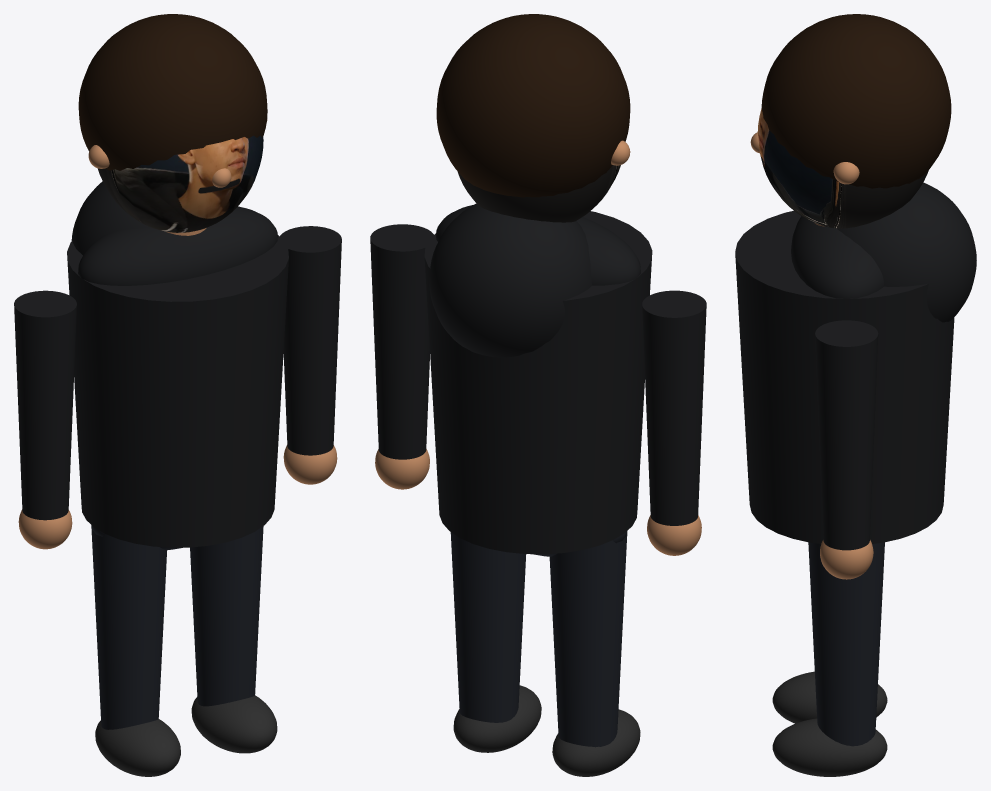
The model's file is chase.glb.
The picture shows the model from 3 angles, left to right: view 1: azimuth 30°, elevation 25°; view 2: azimuth 150°, elevation 25°; view 3: azimuth 270°, elevation 25°; orthographic projection. The views are drawn at different scales.
Visible parts, largest first — view 1: torso, hair-afro, left-arm-mesh, left-leg-mesh, right-arm-mesh, right-leg-mesh, skull, chest-top, right-shoe, left-shoe, hood, right-hand (+1 smaller); view 2: torso, hair-afro, hood, left-leg-mesh, left-arm-mesh, right-arm-mesh, right-leg-mesh, skull, right-shoe, left-shoe, chest-top, right-hand (+1 smaller); view 3: torso, hair-afro, right-arm-mesh, right-leg-mesh, hood, skull, chest-top, right-shoe, left-shoe, right-hand, right-ear.
Boxes of the visible parts, <box> form: torso: <box>67,235,288,547</box>; hair-afro: <box>78,14,267,170</box>; left-arm-mesh: <box>14,290,76,520</box>; left-leg-mesh: <box>91,527,166,729</box>; right-arm-mesh: <box>280,226,341,455</box>; right-leg-mesh: <box>190,526,263,706</box>; skull: <box>97,135,263,232</box>; chest-top: <box>78,206,277,285</box>; right-shoe: <box>191,695,277,753</box>; left-shoe: <box>95,719,180,776</box>; hood: <box>71,181,152,255</box>; right-hand: <box>283,445,337,484</box>; torso: <box>424,211,652,554</box>; hair-afro: <box>436,14,630,197</box>; hood: <box>429,203,591,357</box>; left-leg-mesh: <box>549,533,627,747</box>; left-arm-mesh: <box>642,290,706,525</box>; right-arm-mesh: <box>370,224,433,459</box>; right-leg-mesh: <box>450,532,526,722</box>; skull: <box>458,165,620,222</box>; right-shoe: <box>453,685,541,752</box>; left-shoe: <box>552,709,640,776</box>; chest-top: <box>436,205,640,285</box>; right-hand: <box>375,449,429,489</box>; torso: <box>735,210,954,543</box>; hair-afro: <box>761,14,951,188</box>; right-arm-mesh: <box>815,320,878,550</box>; right-leg-mesh: <box>808,542,884,746</box>; hood: <box>837,182,976,322</box>; skull: <box>757,108,928,228</box>; chest-top: <box>791,216,883,298</box>; right-shoe: <box>772,718,887,776</box>; left-shoe: <box>772,671,887,723</box>; right-hand: <box>820,540,873,579</box>; right-ear: <box>833,162,859,184</box>.
Size of the model in its own units: 1.99 by 4.31 by 1.3.
Materials: 6 (1 with a texture image).
